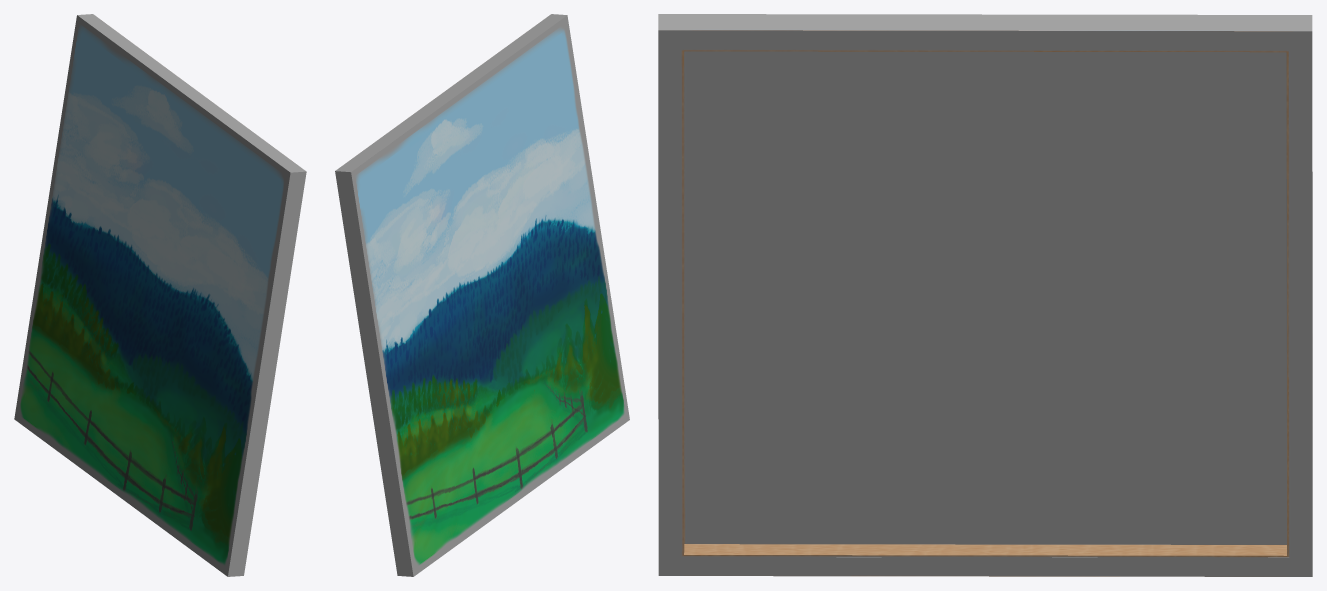
Rendered from Canvas.fbx.
3 renders of one model, left to right at view 1: azimuth 30°, elevation 25°; view 2: azimuth 150°, elevation 25°; view 3: azimuth 270°, elevation 25°, orthographic. The views are drawn at different scales.
Visible parts, largest first — view 1: Canvas; view 2: Canvas; view 3: Canvas.
Boxes of the visible parts, <box> form: Canvas: <box>14,14,306,576</box>; Canvas: <box>335,14,629,576</box>; Canvas: <box>658,14,1312,576</box>.
Bounding box in the file's own units: 16.11 × 75.41 × 74.99.
Materials: 1 (1 with a texture image).
